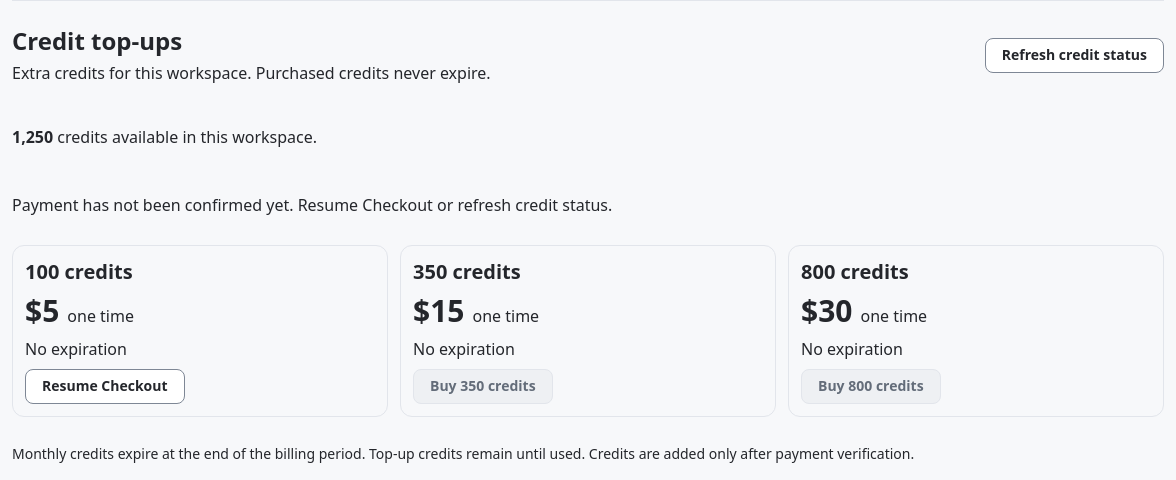
Scenario: account credit packs › shows verified balance and prevents a browser return from granting credits
expect the text "Payment has not been confirmed yet. Resume Checkout or refresh credit status." is shown: met, box x1=12 y1=194 x2=612 y2=216
expect the text "1,250" is shown: met, box x1=12 y1=126 x2=53 y2=148
Click the button "Refresh credit status" at (1074, 55), box x1=985 y1=38 x2=1164 y2=73
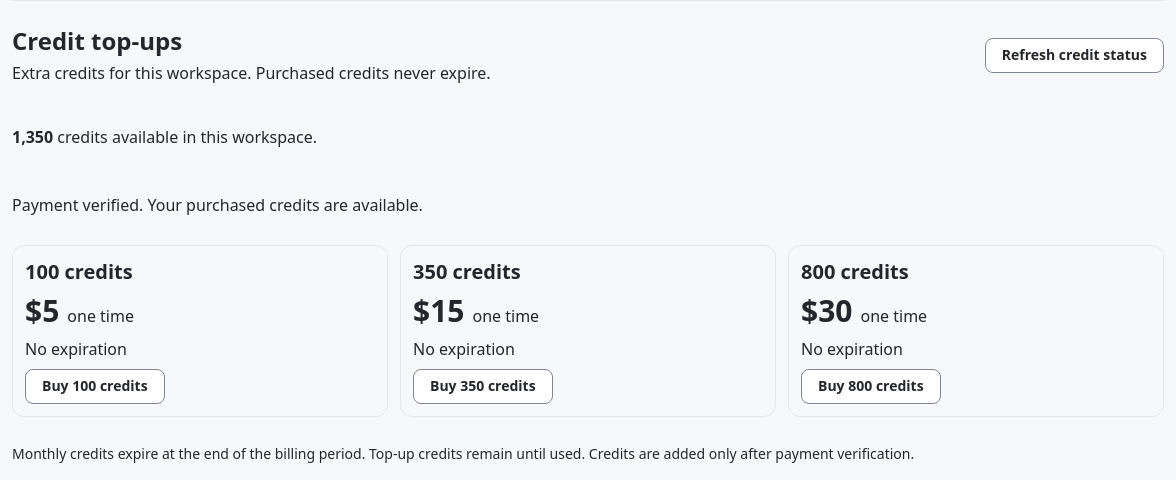
expect the text "Payment verified. Your purchased credits are available." is shown: met, box x1=12 y1=194 x2=423 y2=216
expect the text "1,350" is shown: met, box x1=12 y1=126 x2=53 y2=148
